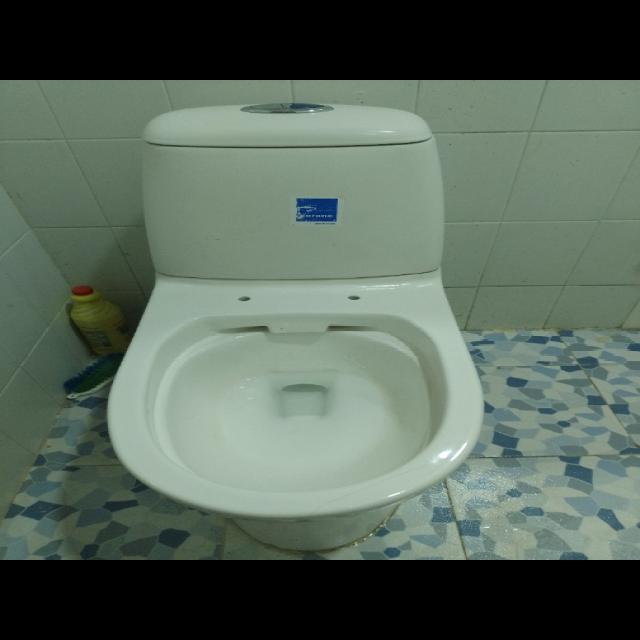toilet: (105, 101, 484, 551)
